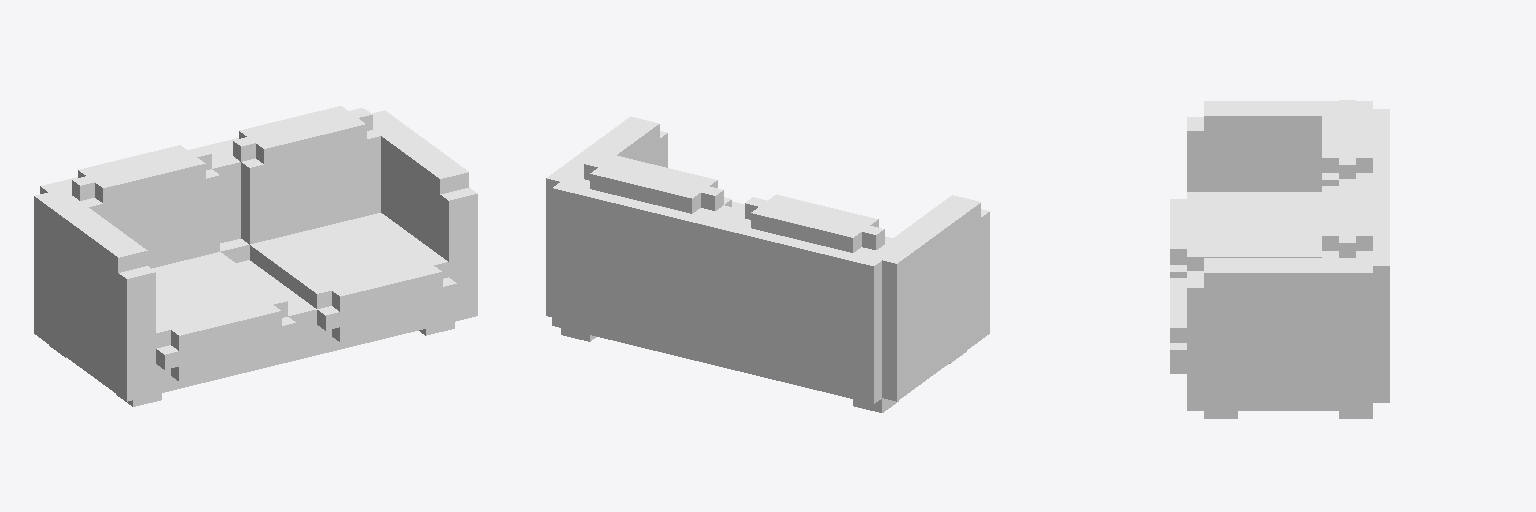
Rendered from BrownLobbyCouch.obj.
3 renders of one model, left to right at view 1: azimuth 30°, elevation 25°; view 2: azimuth 150°, elevation 25°; view 3: azimuth 270°, elevation 25°, orthographic.
Visible parts, largest first — view 1: object 1; view 2: object 1; view 3: object 1.
Boxes of the visible parts, <box> form: object 1: <box>34,106,477,406</box>; object 1: <box>546,116,989,412</box>; object 1: <box>1170,100,1389,418</box>.
Size of the model in its own units: 2.4 by 1.1 by 1.3.